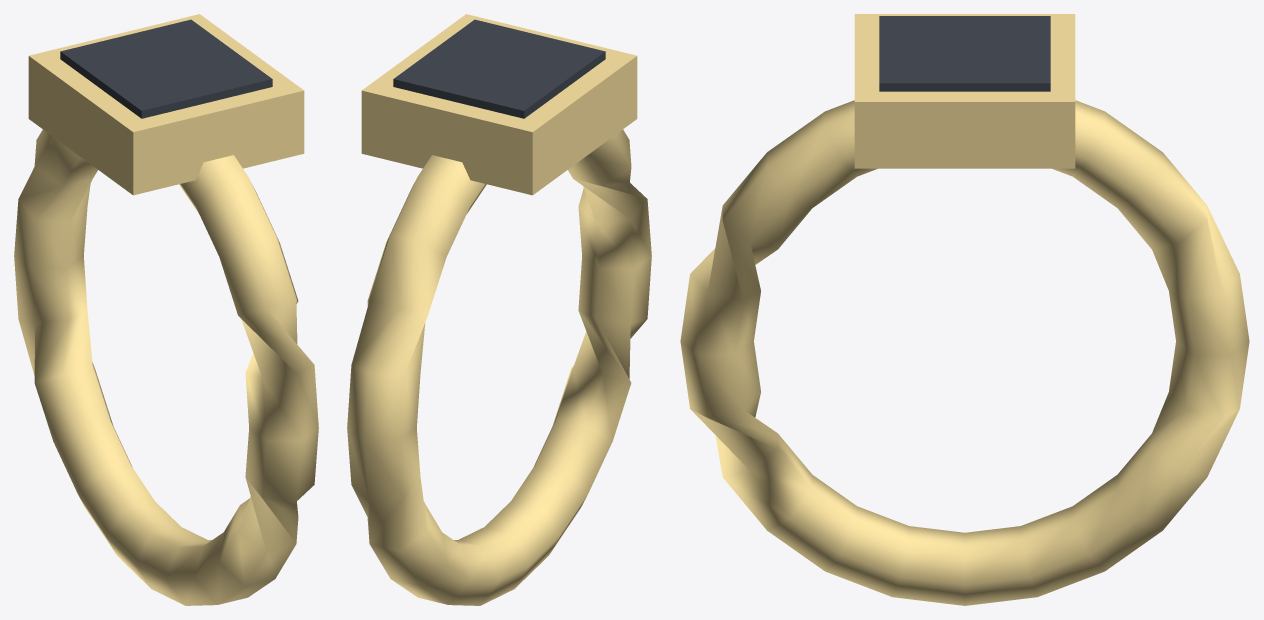
Rendered from relogio_ouro.glb.
3 renders of one model, left to right at view 1: azimuth 30°, elevation 25°; view 2: azimuth 150°, elevation 25°; view 3: azimuth 270°, elevation 25°, orthographic. The views are drawn at different scales.
Parts seen in each view (by area): view 1: relogio_ouro; view 2: relogio_ouro; view 3: relogio_ouro.
Part boxes in pixels (bbox=[...]): relogio_ouro: bbox=[14, 14, 318, 605]; relogio_ouro: bbox=[347, 14, 651, 605]; relogio_ouro: bbox=[680, 14, 1249, 605].
Size of the model in its own units: 0.034 by 0.0988 by 0.0929.
